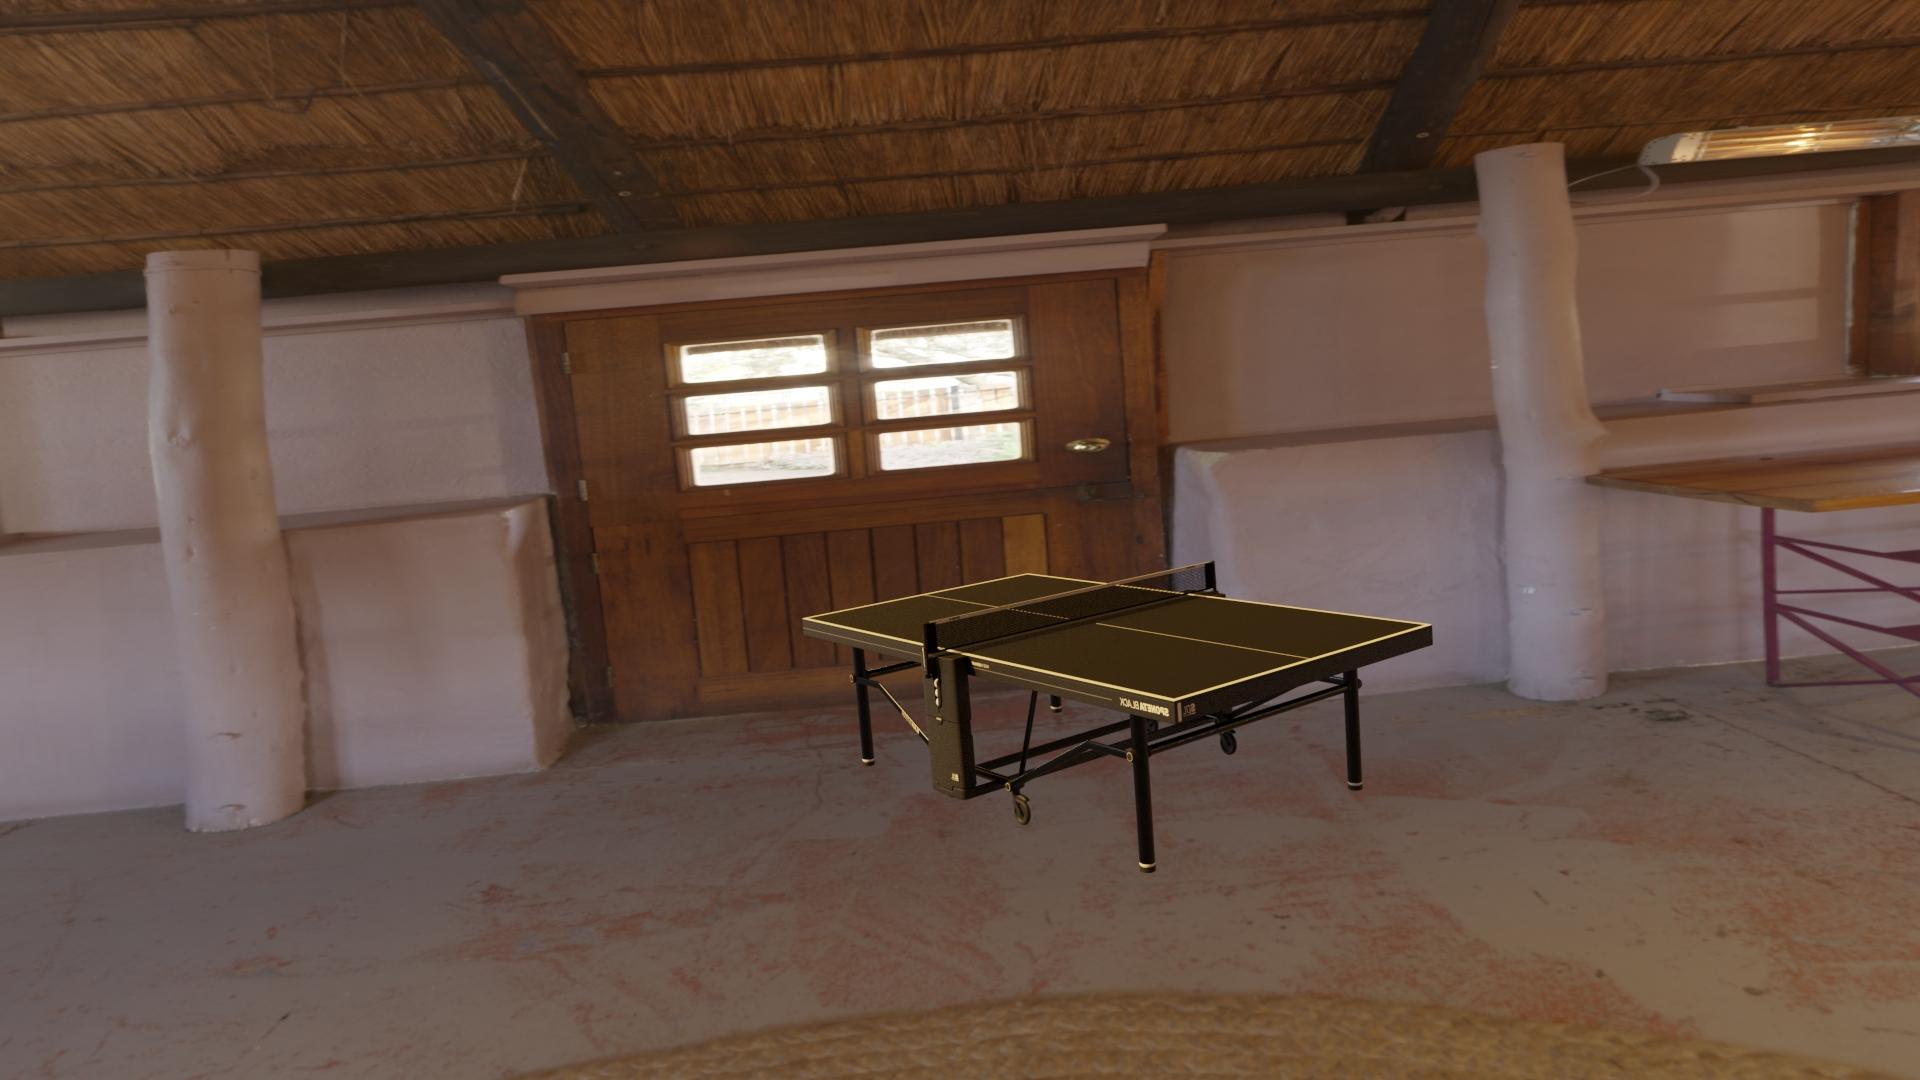table: (807, 574, 1425, 699)
